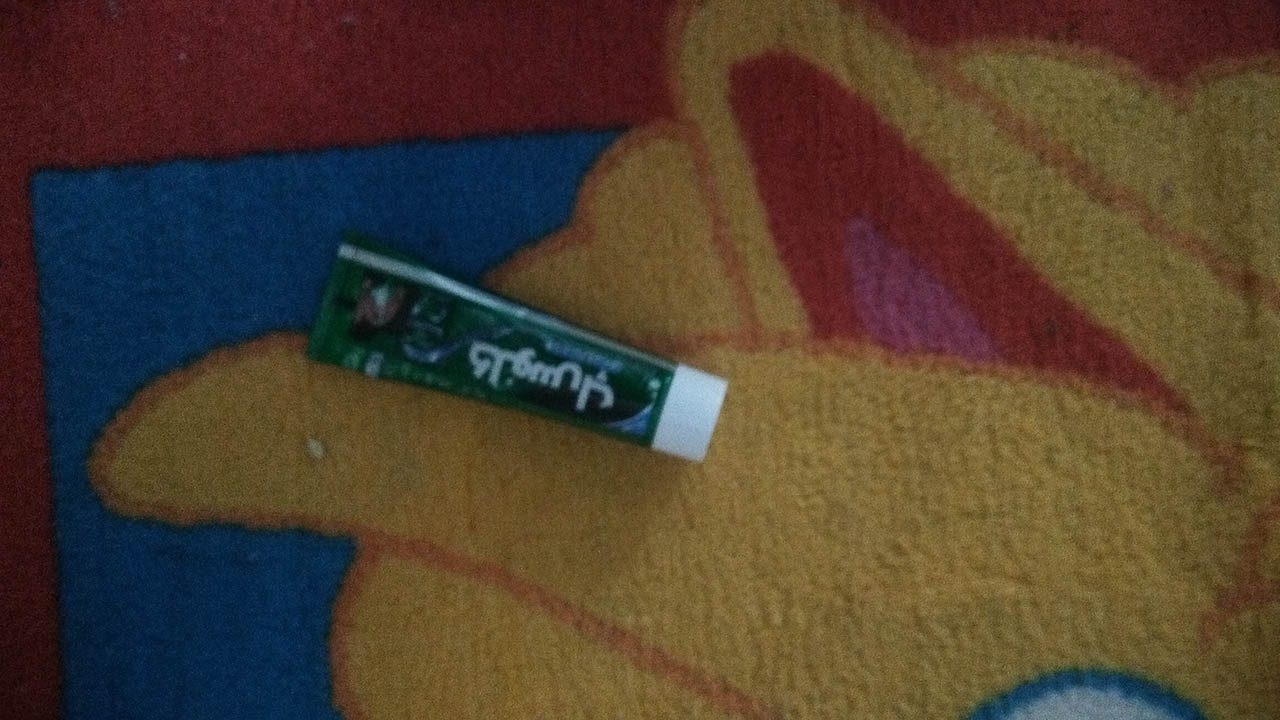Toothpaste-Closeup 3.04$: (268, 210, 772, 469)
